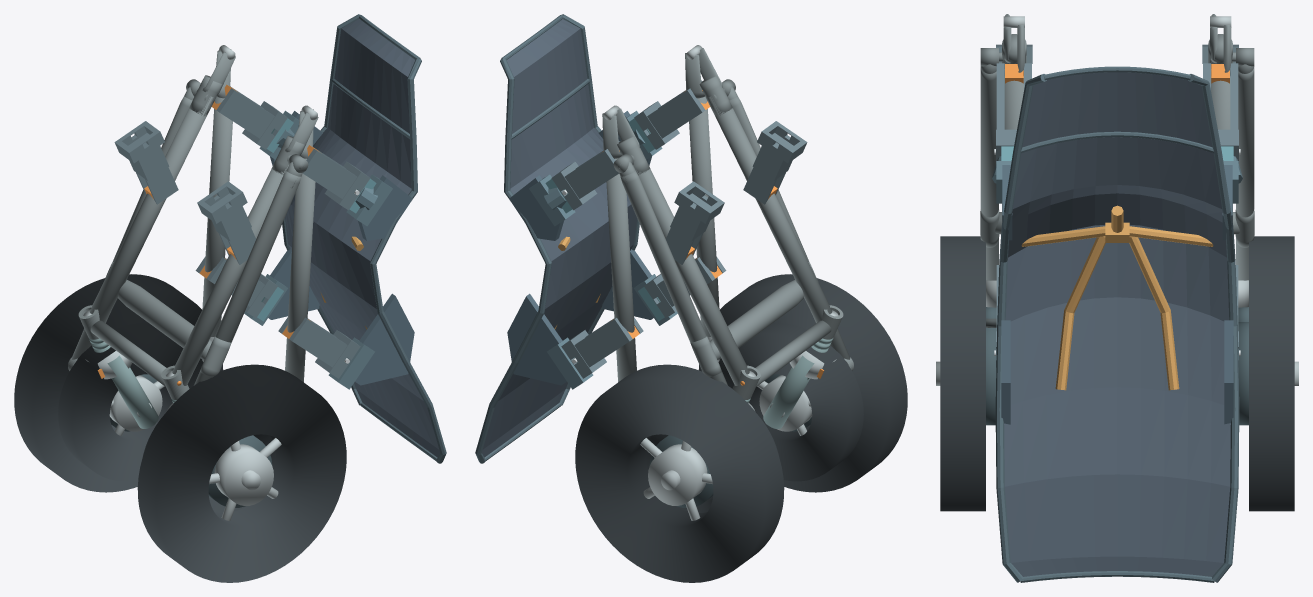
The model's file is S01_w380_state3_wheel_L.glb.
3 renders of one model, left to right at view 1: azimuth 30°, elevation 25°; view 2: azimuth 150°, elevation 25°; view 3: azimuth 270°, elevation 25°, orthographic. The views are drawn at different scales.
Parts seen in each view (by area): view 1: S01_Cabin, RL_tire.013, RR_tire.013, FR_tire.013, main_lower_1.001, main_upper_-1.001, main_lower_-1.001, V46_rear_leg_-1, Universal_Cabin_Receiver_L_1, Universal_Cabin_Receiver_L_-1, main_upper_1.001, RL_sealed_hub.013 (+14 smaller); view 2: S01_Cabin, RR_tire.013, RL_tire.013, FL_tire.013, main_lower_-1.001, main_upper_1.001, main_lower_1.001, V46_rear_leg_1, Universal_Cabin_Receiver_L_-1, Universal_Cabin_Receiver_L_1, main_upper_-1.001, RR_sealed_hub.013 (+17 smaller); view 3: S01_Cabin, RL_tire.013, RR_tire.013, V46_rear_leg_1, V46_rear_leg_-1, S01_Cabin_MidDocks, Universal_Cabin_Receiver_M_-1, Universal_Cabin_Receiver_M_1, RR_brake_backplate.013, RL_brake_backplate.013, main_upper_1.001, main_upper_-1.001 (+2 smaller).
Part boxes in pixels (x1=…): S01_Cabin: x1=268, y1=14, x2=446, y2=463; RL_tire.013: x1=137, y1=364, x2=346, y2=582; RR_tire.013: x1=14, y1=274, x2=223, y2=492; FR_tire.013: x1=58, y1=323, x2=203, y2=481; main_lower_1.001: x1=89, y1=96, x2=213, y2=322; main_upper_-1.001: x1=285, y1=158, x2=315, y2=382; main_lower_-1.001: x1=172, y1=165, x2=288, y2=385; V46_rear_leg_-1: x1=194, y1=171, x2=301, y2=385; Universal_Cabin_Receiver_L_1: x1=114, y1=121, x2=178, y2=204; Universal_Cabin_Receiver_L_-1: x1=197, y1=181, x2=255, y2=264; main_upper_1.001: x1=202, y1=96, x2=232, y2=336; RL_sealed_hub.013: x1=214, y1=444, x2=273, y2=505; S01_Cabin: x1=475, y1=14, x2=653, y2=463; RR_tire.013: x1=575, y1=364, x2=784, y2=582; RL_tire.013: x1=698, y1=274, x2=907, y2=492; FL_tire.013: x1=718, y1=323, x2=863, y2=481; main_lower_-1.001: x1=708, y1=96, x2=832, y2=322; main_upper_1.001: x1=606, y1=158, x2=636, y2=382; main_lower_1.001: x1=633, y1=165, x2=749, y2=385; V46_rear_leg_1: x1=620, y1=171, x2=727, y2=385; Universal_Cabin_Receiver_L_-1: x1=743, y1=121, x2=807, y2=204; Universal_Cabin_Receiver_L_1: x1=666, y1=181, x2=724, y2=264; main_upper_-1.001: x1=689, y1=96, x2=719, y2=336; RR_sealed_hub.013: x1=648, y1=444, x2=707, y2=505; S01_Cabin: x1=995, y1=66, x2=1239, y2=582; RL_tire.013: x1=940, y1=236, x2=985, y2=511; RR_tire.013: x1=1249, y1=236, x2=1294, y2=511; V46_rear_leg_1: x1=1236, y1=67, x2=1254, y2=280; V46_rear_leg_-1: x1=980, y1=67, x2=998, y2=280; S01_Cabin_MidDocks: x1=992, y1=146, x2=1242, y2=203; Universal_Cabin_Receiver_M_-1: x1=996, y1=63, x2=1031, y2=163; Universal_Cabin_Receiver_M_1: x1=1203, y1=63, x2=1238, y2=163; RR_brake_backplate.013: x1=1238, y1=322, x2=1248, y2=425; RL_brake_backplate.013: x1=986, y1=328, x2=996, y2=425; main_upper_1.001: x1=1211, y1=76, x2=1232, y2=222; main_upper_-1.001: x1=1002, y1=76, x2=1023, y2=222.
Bounding box in the file's own units: 0.6014 × 0.8032 × 0.4748.
